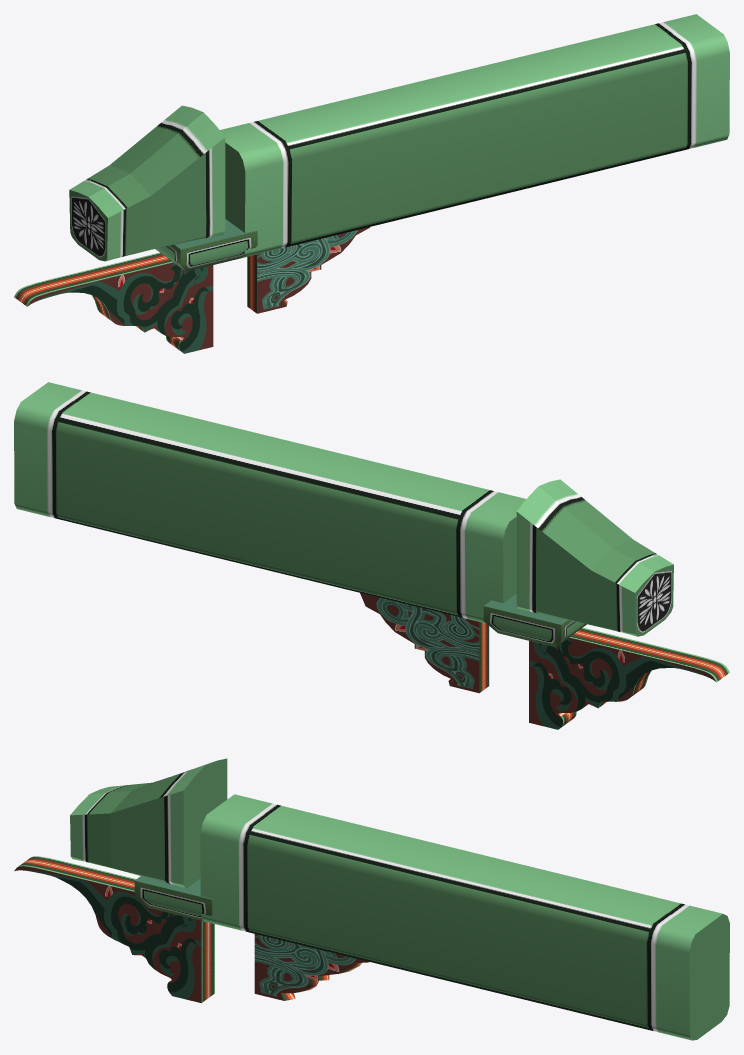
File: SM_R_Beam_17.fbx
3 renders of one model, top to bottom at view 1: azimuth 30°, elevation 25°; view 2: azimuth 150°, elevation 25°; view 3: azimuth 330°, elevation 25°, orthographic.
Visible parts, largest first — view 1: SM_R_Beam_17_LOD0; view 2: SM_R_Beam_17_LOD0; view 3: SM_R_Beam_17_LOD0.
Boxes of the visible parts, box(x1,y1,x2,y2) form: SM_R_Beam_17_LOD0: box(14, 14, 729, 353); SM_R_Beam_17_LOD0: box(14, 382, 729, 729); SM_R_Beam_17_LOD0: box(14, 758, 729, 1040).
Size of the model in its own units: 272 by 32.84 by 87.18.
3 materials, 3 textured.
